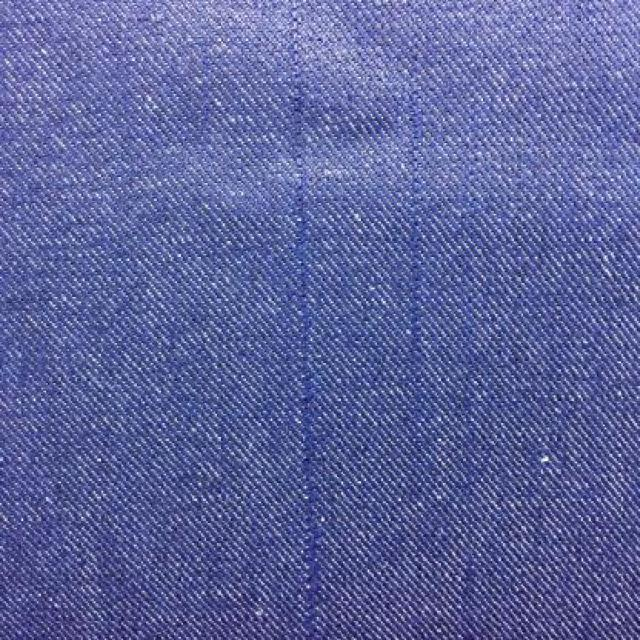pulled_or_thick_thread: (283, 11, 329, 613), (396, 68, 439, 404)
